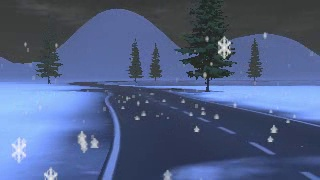Lane: (70, 81, 319, 179)
